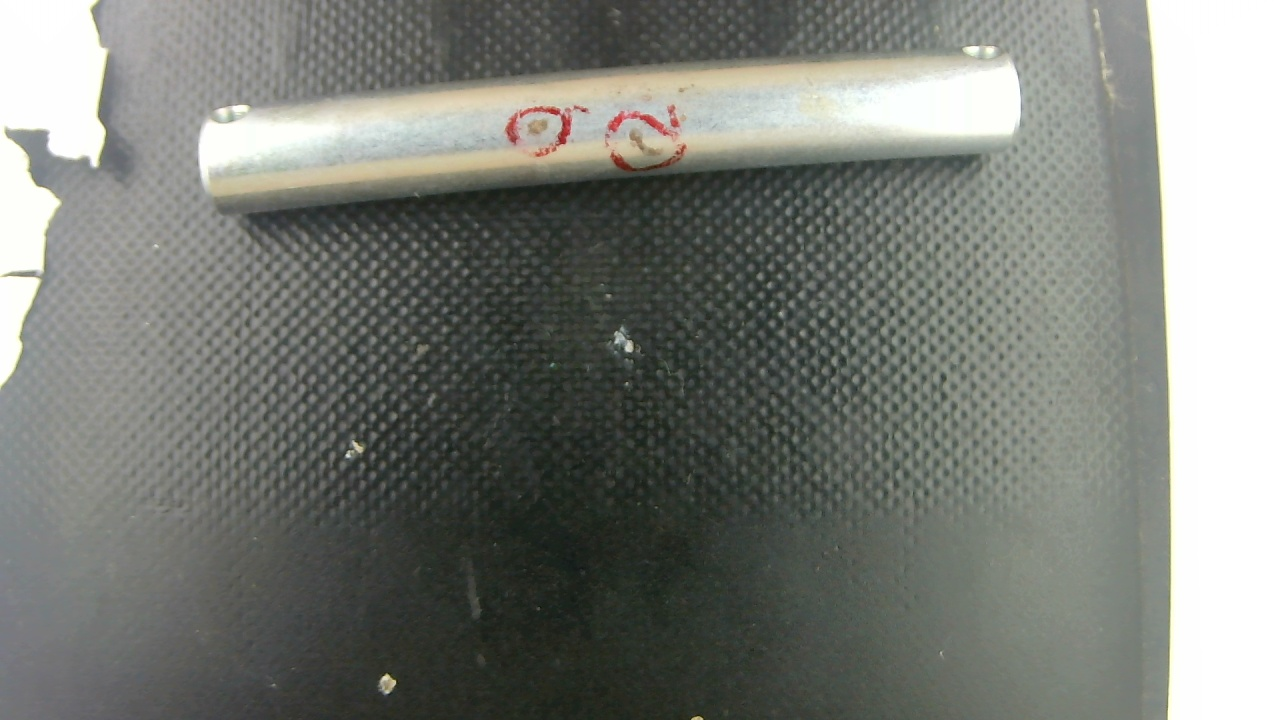rust_pin: (619, 118, 666, 163)
